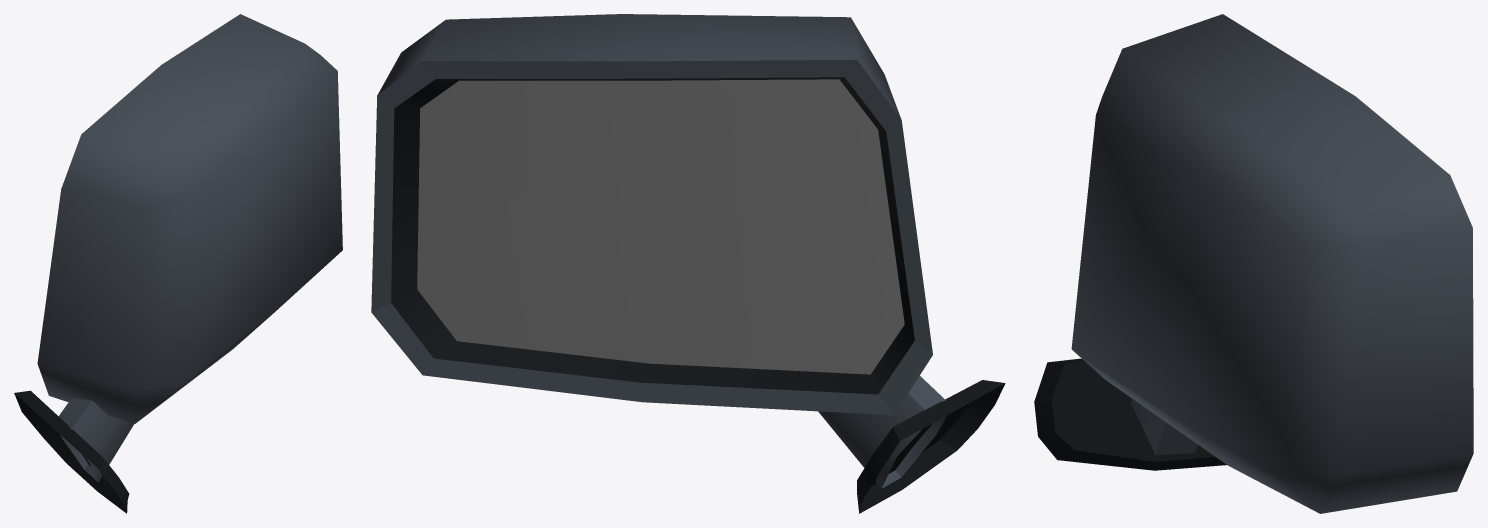
File: bath8.glb
3 views of the same model, side by side, from view 1: azimuth 30°, elevation 25°; view 2: azimuth 150°, elevation 25°; view 3: azimuth 270°, elevation 25° (orthographic). The views are drawn at different scales.
Visible parts, largest first — view 1: node_id435, node_id439; view 2: node_id437, node_id435, node_id439; view 3: node_id435, node_id439.
Part boxes in pixels (x1=…): node_id435: x1=37, y1=14, x2=342, y2=482; node_id439: x1=14, y1=390, x2=129, y2=513; node_id437: x1=417, y1=79, x2=904, y2=374; node_id435: x1=371, y1=14, x2=947, y2=488; node_id439: x1=391, y1=77, x2=1005, y2=513; node_id435: x1=1071, y1=14, x2=1473, y2=513; node_id439: x1=1034, y1=358, x2=1226, y2=470.
Bounding box in the file's own units: 0.512 × 0.4837 × 0.4131.
3 materials, 3 textured.
